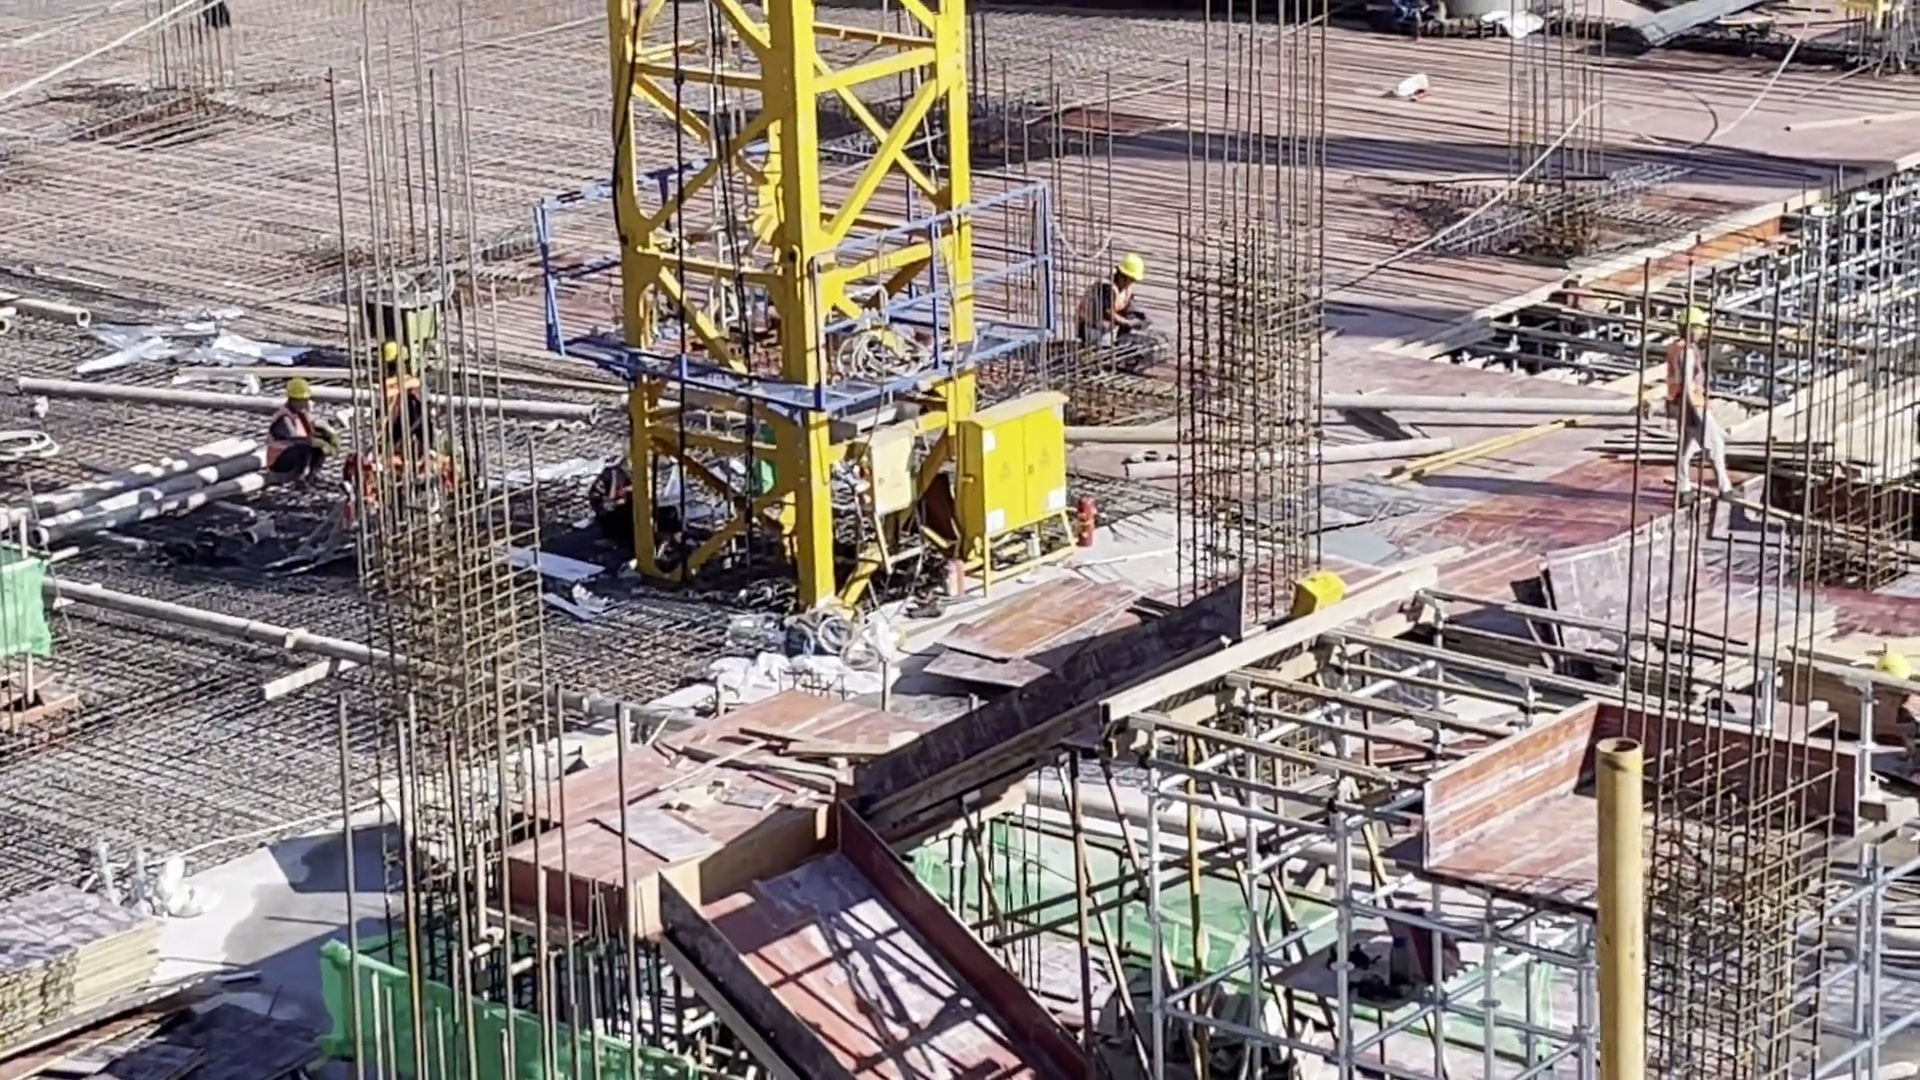board: (1, 888, 176, 1059), (21, 992, 356, 1080)
ebox: (965, 398, 1090, 592), (846, 428, 922, 591), (1287, 564, 1349, 614)
helmet: (1113, 253, 1147, 287), (282, 373, 322, 401), (1676, 301, 1706, 326)
person: (1663, 289, 1723, 504), (256, 373, 341, 489), (1075, 253, 1154, 349), (585, 439, 633, 552)
vest: (1078, 274, 1137, 346), (1661, 339, 1709, 415), (264, 410, 306, 476)
